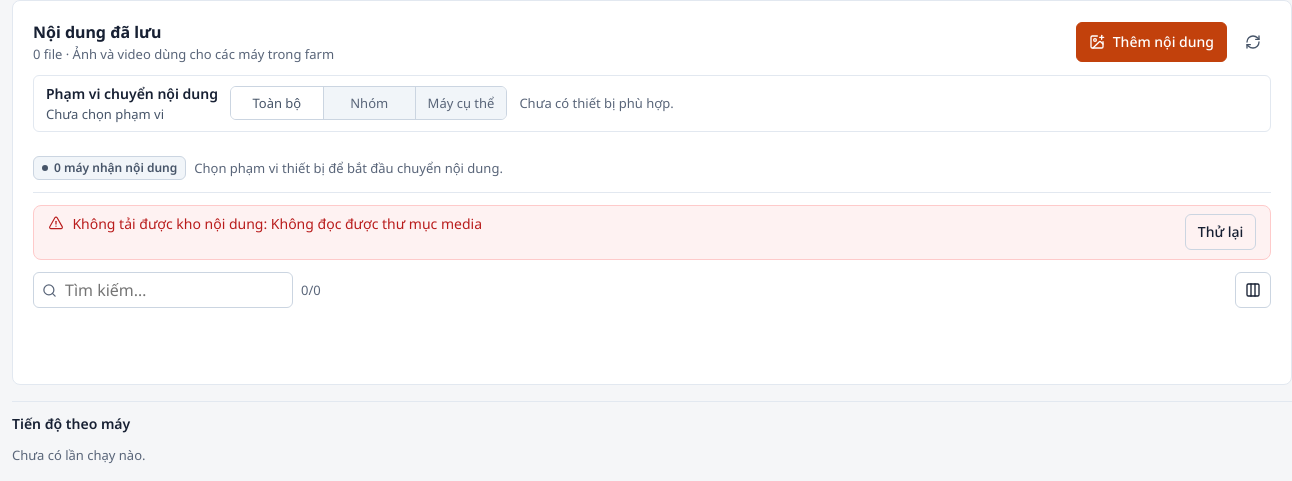
MaterialPage list states › keeps a load failure inline and retries without an error toast state
The image size is (1292, 481).
Expected: the message "Không tải được kho nội dung: Không đọc được thư mục media Thử lại" is shown, [33,205,1271,260]
What coordinates should you click on to do the following:
click the button "Thử lại"
I would click on:
 (1221, 232)
Its box is [1185,214,1256,250].
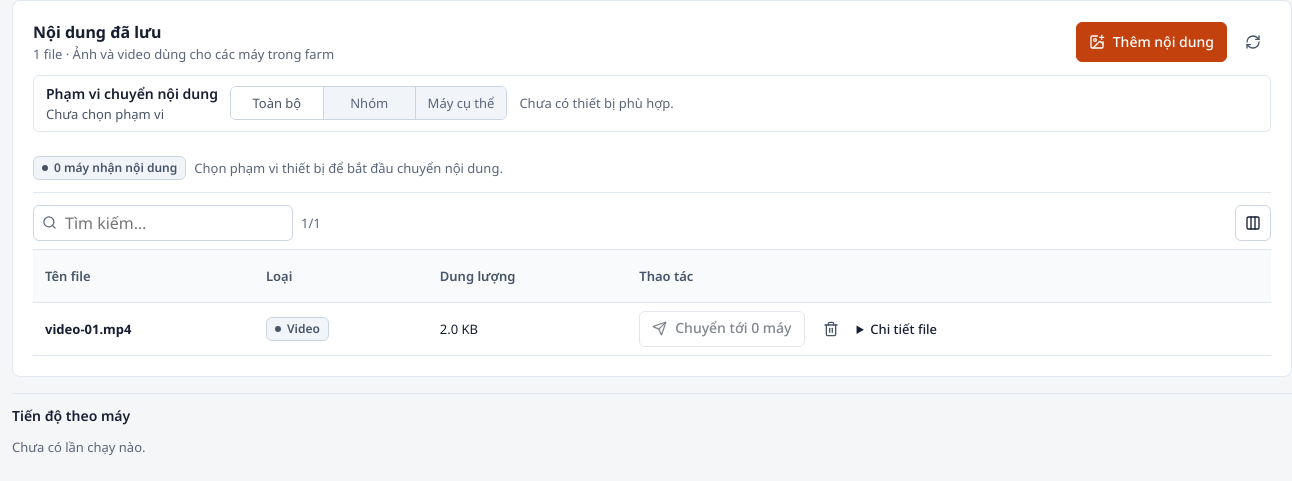
Result: the text "video-01.mp4" is shown at [45,320,131,338]
